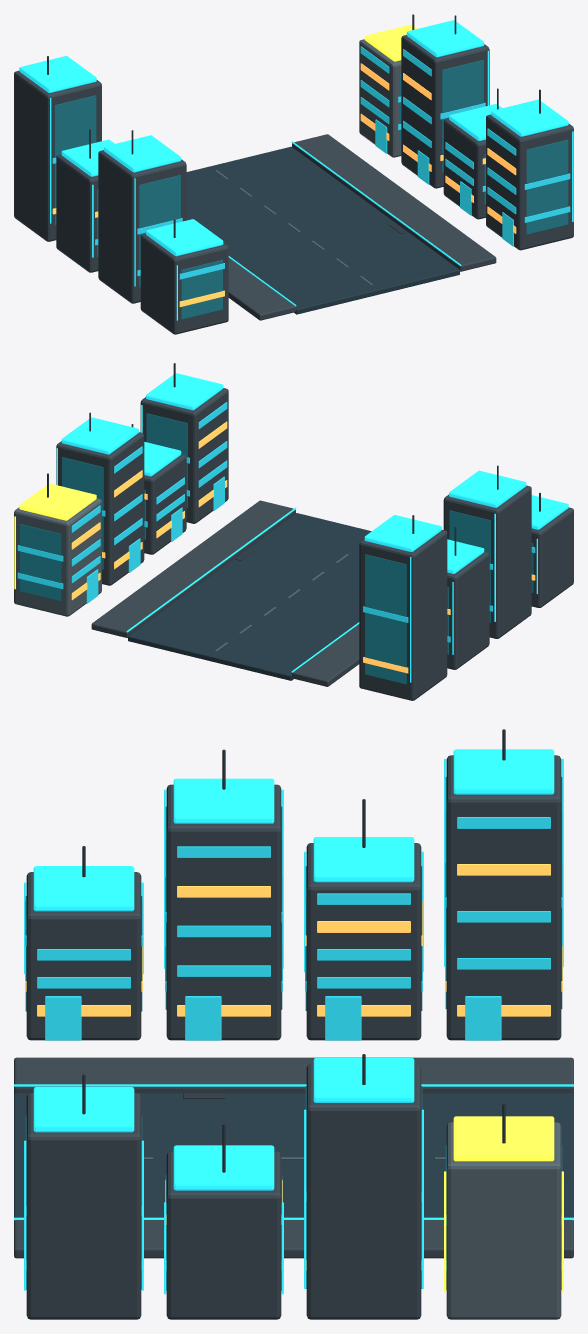
File: alley_lod0.glb
3 renders of one model, top to bottom at view 1: azimuth 30°, elevation 25°; view 2: azimuth 150°, elevation 25°; view 3: azimuth 270°, elevation 25°, orthographic. The views are drawn at different scales.
Parts seen in each view (by area): view 1: ND_Batch_ND_CityConcrete, ND_Batch_ND_WetAsphalt, ND_Batch_ND_CityCyanMuted, ND_Batch_ND_DarkGlass, ND_Batch_ND_RoadEdge, ND_Batch_ND_NeonGlass, ND_Batch_ND_CityConcreteLight, ND_Batch_ND_WarmWindow, ND_Batch_ND_PackageGold, ND_Batch_ND_RooftopMetal; view 2: ND_Batch_ND_CityConcrete, ND_Batch_ND_WetAsphalt, ND_Batch_ND_DarkGlass, ND_Batch_ND_CityCyanMuted, ND_Batch_ND_RoadEdge, ND_Batch_ND_NeonGlass, ND_Batch_ND_CityConcreteLight, ND_Batch_ND_PackageGold, ND_Batch_ND_WarmWindow, ND_Batch_ND_RooftopMetal; view 3: ND_Batch_ND_CityConcrete, ND_Batch_ND_CityCyanMuted, ND_Batch_ND_WetAsphalt, ND_Batch_ND_NeonGlass, ND_Batch_ND_CityConcreteLight, ND_Batch_ND_RoadEdge, ND_Batch_ND_WarmWindow, ND_Batch_ND_PackageGold, ND_Batch_ND_DarkGlass, ND_Batch_ND_RooftopMetal.
Boxes of the visible parts, x1=… form: ND_Batch_ND_CityConcrete: x1=14, y1=35, x2=573, y2=334; ND_Batch_ND_WetAsphalt: x1=186, y1=146, x2=459, y2=314; ND_Batch_ND_CityCyanMuted: x1=19, y1=20, x2=573, y2=320; ND_Batch_ND_DarkGlass: x1=54, y1=60, x2=568, y2=319; ND_Batch_ND_RoadEdge: x1=228, y1=134, x2=496, y2=320; ND_Batch_ND_NeonGlass: x1=52, y1=46, x2=570, y2=279; ND_Batch_ND_CityConcreteLight: x1=215, y1=39, x2=401, y2=285; ND_Batch_ND_WarmWindow: x1=52, y1=63, x2=516, y2=307; ND_Batch_ND_PackageGold: x1=364, y1=24, x2=417, y2=61; ND_Batch_ND_RooftopMetal: x1=47, y1=14, x2=540, y2=270; ND_Batch_ND_CityConcrete: x1=56, y1=388, x2=573, y2=700; ND_Batch_ND_WetAsphalt: x1=128, y1=513, x2=371, y2=680; ND_Batch_ND_DarkGlass: x1=19, y1=413, x2=533, y2=684; ND_Batch_ND_CityCyanMuted: x1=56, y1=373, x2=568, y2=682; ND_Batch_ND_RoadEdge: x1=91, y1=500, x2=359, y2=686; ND_Batch_ND_NeonGlass: x1=17, y1=402, x2=535, y2=642; ND_Batch_ND_CityConcreteLight: x1=14, y1=498, x2=348, y2=651; ND_Batch_ND_PackageGold: x1=14, y1=483, x2=96, y2=589; ND_Batch_ND_WarmWindow: x1=71, y1=421, x2=535, y2=673; ND_Batch_ND_RooftopMetal: x1=47, y1=363, x2=540, y2=560; ND_Batch_ND_CityConcrete: x1=26, y1=755, x2=561, y2=1319; ND_Batch_ND_CityCyanMuted: x1=14, y1=749, x2=573, y2=1294; ND_Batch_ND_WetAsphalt: x1=14, y1=1093, x2=573, y2=1221; ND_Batch_ND_NeonGlass: x1=25, y1=817, x2=562, y2=1270; ND_Batch_ND_CityConcreteLight: x1=144, y1=1122, x2=561, y2=1319; ND_Batch_ND_RoadEdge: x1=14, y1=1057, x2=573, y2=1258; ND_Batch_ND_WarmWindow: x1=25, y1=864, x2=562, y2=1270; ND_Batch_ND_PackageGold: x1=444, y1=1116, x2=563, y2=1292; ND_Batch_ND_DarkGlass: x1=25, y1=777, x2=562, y2=1290; ND_Batch_ND_RooftopMetal: x1=82, y1=729, x2=505, y2=1172.
Size of the model in its own units: 27.4 by 11.43 by 20.
